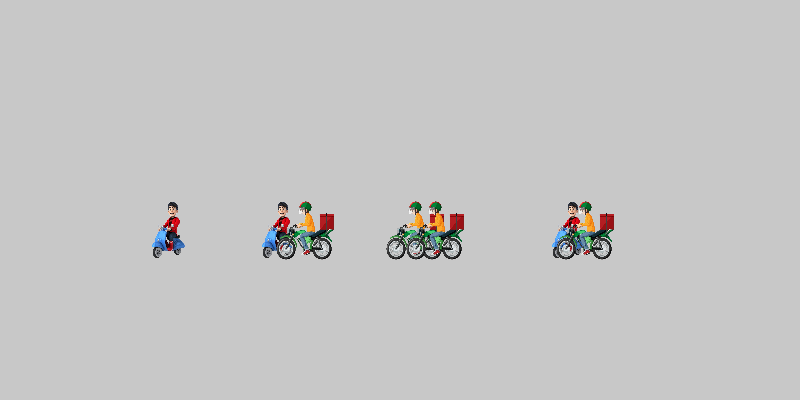helmet: (275, 200, 335, 260), (385, 200, 445, 260), (405, 200, 465, 260), (555, 200, 615, 260)
no_helmet: (140, 200, 200, 260), (250, 200, 310, 260), (540, 200, 600, 260)
